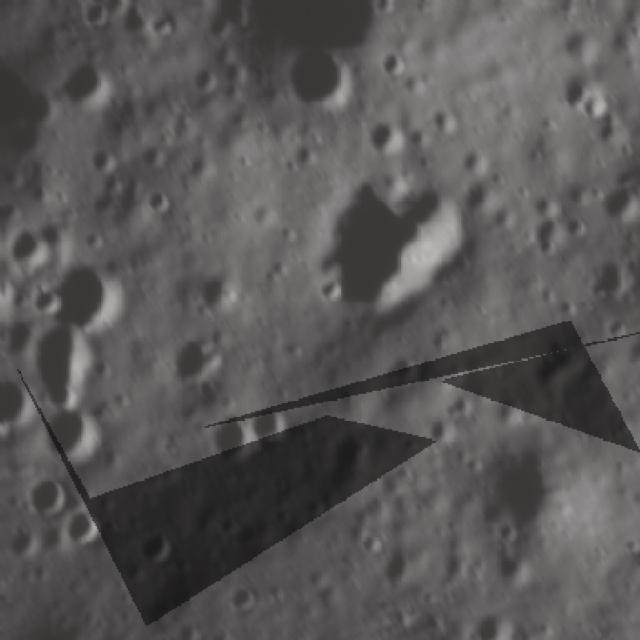crater: (298, 164, 470, 310), (454, 440, 569, 566), (38, 238, 128, 332), (30, 321, 99, 401), (29, 402, 102, 466), (279, 46, 352, 105), (162, 324, 224, 381), (201, 404, 248, 467), (54, 503, 114, 551), (188, 257, 242, 309), (19, 467, 73, 518), (54, 54, 109, 104), (580, 250, 628, 302), (248, 392, 295, 445), (548, 64, 601, 110), (591, 180, 640, 229), (138, 518, 178, 562), (378, 41, 416, 79)
